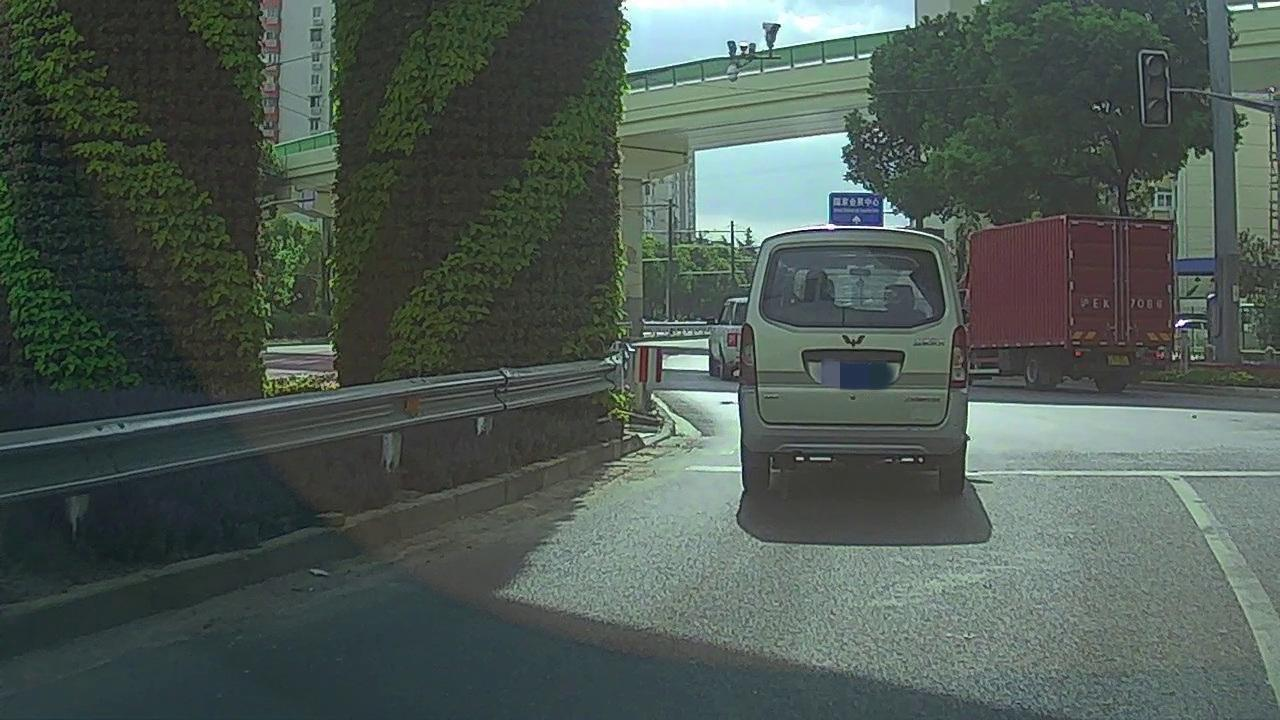traffic_light: (1141, 51, 1169, 126)
